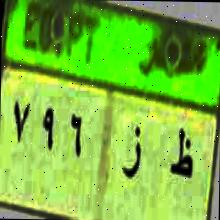6: (66, 102, 86, 166)
7: (11, 88, 31, 151)
9: (36, 104, 60, 157)
Thaa: (165, 123, 198, 190)
zay: (119, 110, 146, 186)
